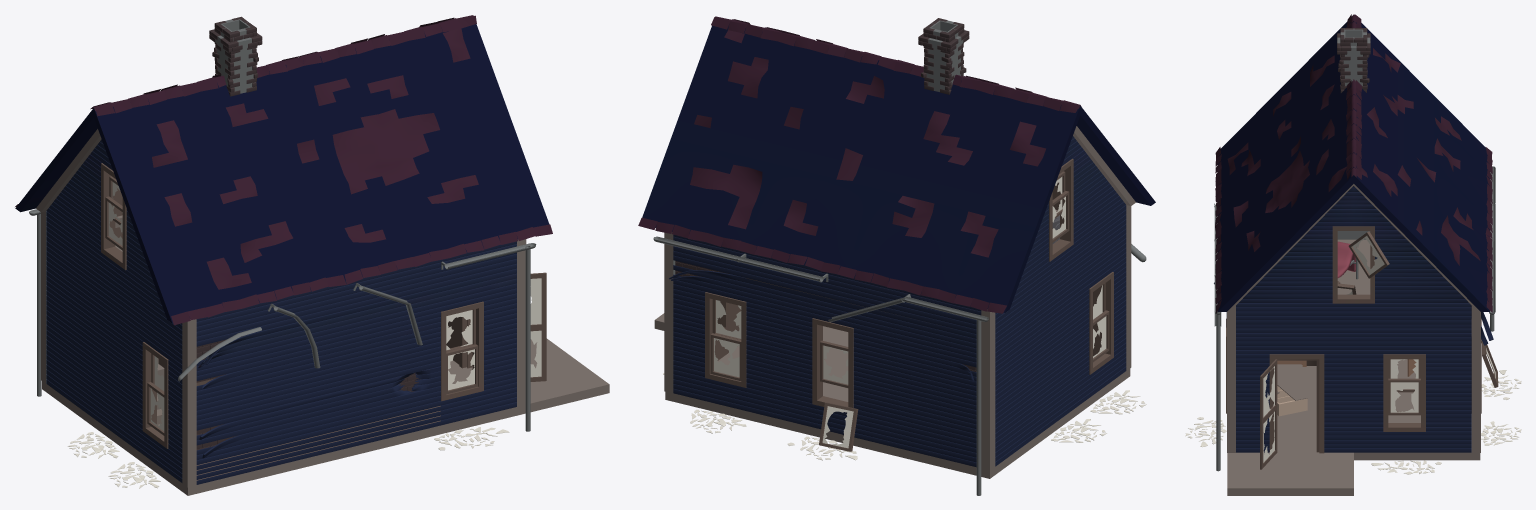
The model's file is House#9.fbx.
3 views of the same model, side by side, from view 1: azimuth 30°, elevation 25°; view 2: azimuth 150°, elevation 25°; view 3: azimuth 270°, elevation 25° (orthographic). The views are drawn at different scales.
Parts seen in each view (by area): view 1: HouseMain, Roof, Misc, Drain, ChimneyBricks, Bricks; view 2: HouseMain, Roof, Misc, Drain, ChimneyBricks; view 3: HouseMain, Misc, Roof, Drain, ChimneyBricks, Closet, Bed.
Part boxes in pixels (x1=…): HouseMain: x1=15, y1=19, x2=609, y2=495; Roof: x1=15, y1=15, x2=552, y2=325; Misc: x1=67, y1=163, x2=546, y2=488; Drain: x1=29, y1=209, x2=536, y2=431; ChimneyBricks: x1=209, y1=16, x2=262, y2=96; Bricks: x1=196, y1=336, x2=420, y2=450; HouseMain: x1=642, y1=20, x2=1155, y2=478; Roof: x1=638, y1=16, x2=1081, y2=313; Misc: x1=663, y1=158, x2=1146, y2=460; Drain: x1=653, y1=236, x2=1146, y2=495; ChimneyBricks: x1=918, y1=18, x2=969, y2=94; HouseMain: x1=1214, y1=21, x2=1493, y2=495; Misc: x1=1185, y1=226, x2=1521, y2=474; Roof: x1=1215, y1=14, x2=1492, y2=313; Drain: x1=1214, y1=166, x2=1495, y2=471; ChimneyBricks: x1=1337, y1=28, x2=1370, y2=92; Closet: x1=1277, y1=381, x2=1307, y2=416; Bed: x1=1337, y1=241, x2=1358, y2=283.
Size of the model in its own units: 516 by 425 by 374.
